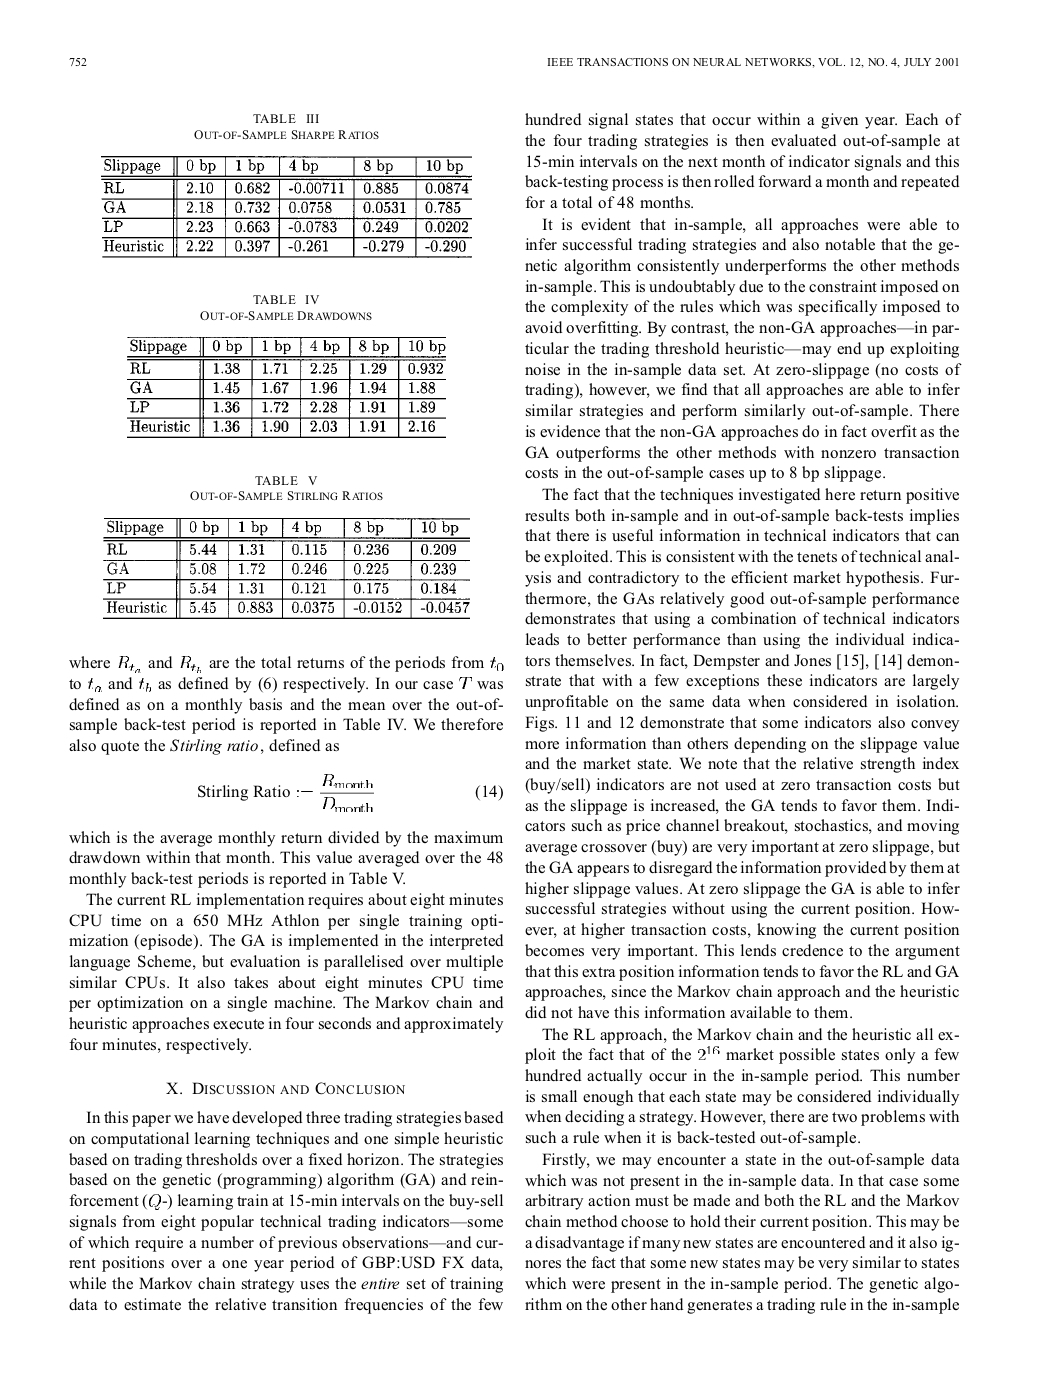Table: (101, 155, 471, 259), (103, 517, 469, 619), (127, 335, 445, 438)
formula: (198, 772, 502, 812)
